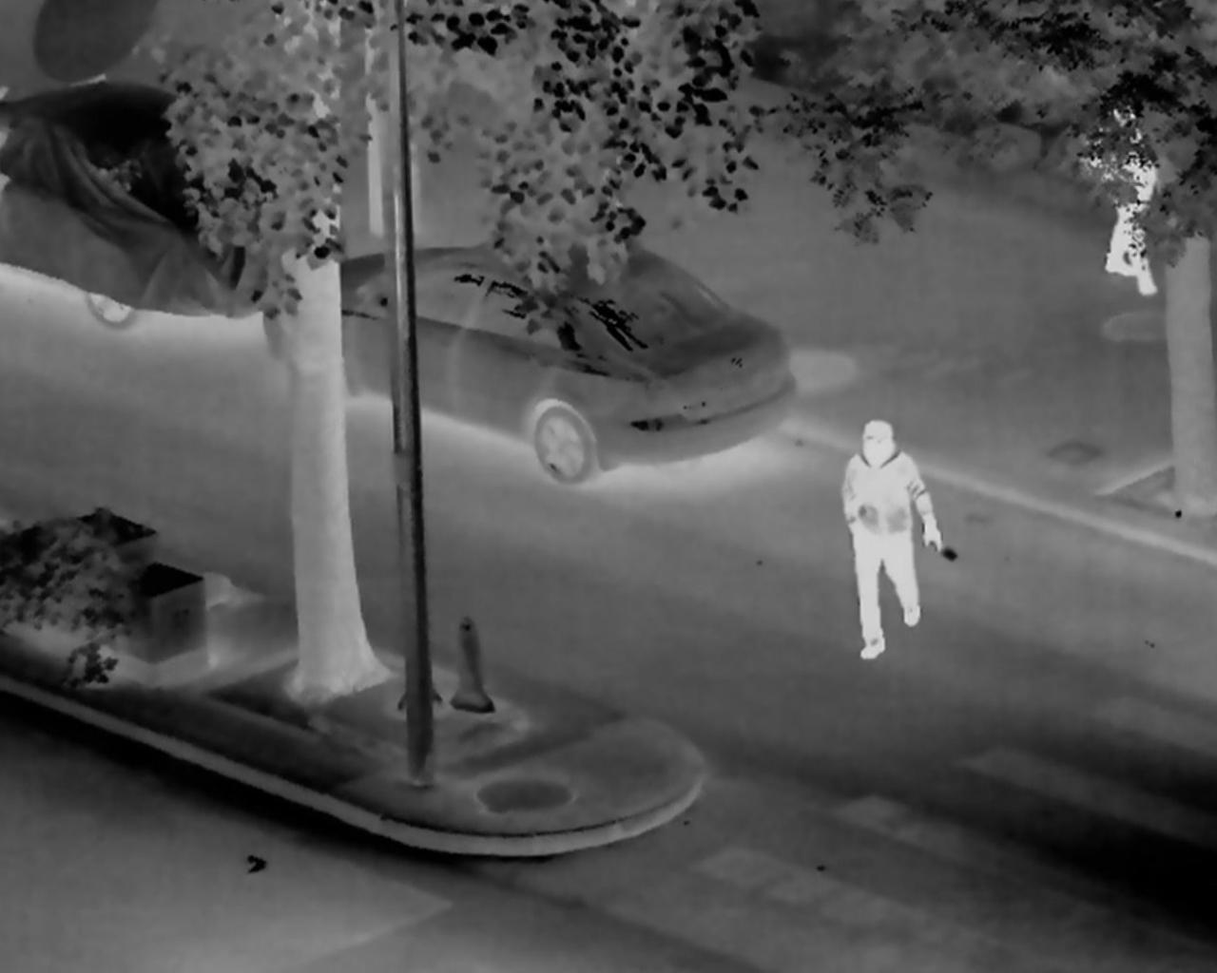person: (840, 420, 939, 658), (1087, 92, 1166, 297)
